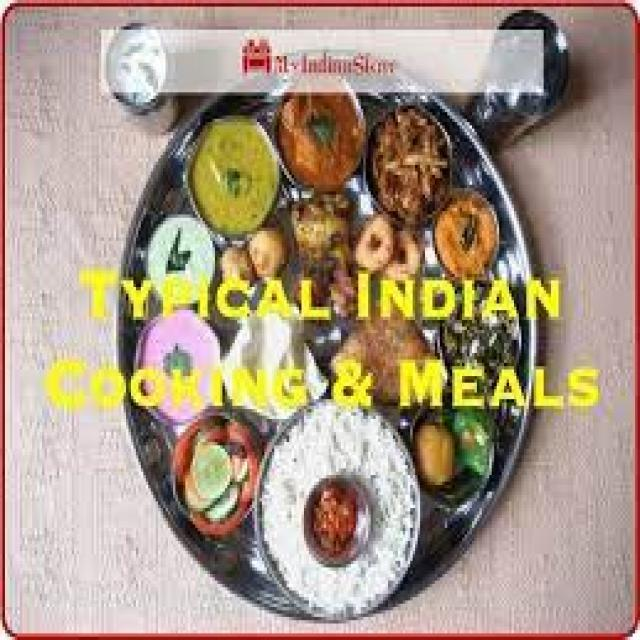dal: (189, 119, 277, 236)
pickle: (264, 423, 410, 596), (294, 472, 381, 571)
rice: (249, 405, 422, 605)
sweet: (409, 409, 479, 505), (351, 206, 420, 288)
